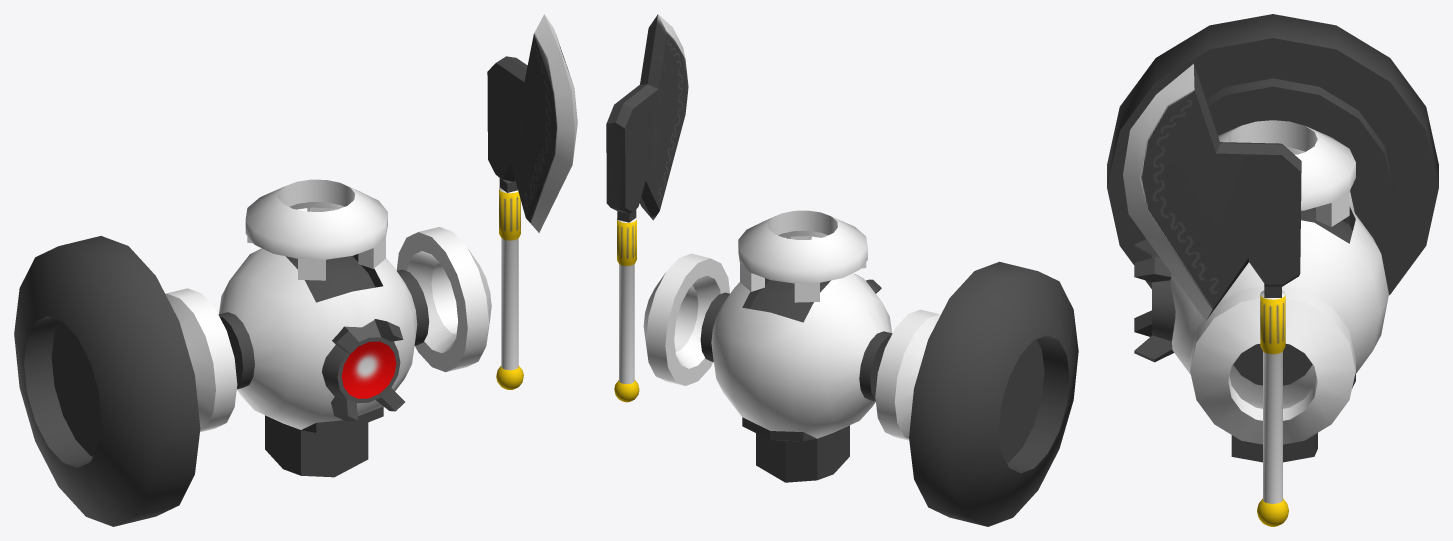
The model's file is O_004_middle_boss_01_04.fbx.
3 renders of one model, left to right at view 1: azimuth 30°, elevation 25°; view 2: azimuth 150°, elevation 25°; view 3: azimuth 270°, elevation 25°, orthographic. The views are drawn at different scales.
Visible parts, largest first — view 1: E01_sereph001, オブジェクト003, オブジェクト002, オブジェクト, オブジェクト001; view 2: E01_sereph001, オブジェクト003, オブジェクト002, オブジェクト, オブジェクト001; view 3: オブジェクト003, オブジェクト002, E01_sereph001, オブジェクト.
Part boxes in pixels (x1,y1,x2,y2): E01_sereph001: (218, 179, 429, 477); オブジェクト003: (14, 236, 200, 526); オブジェクト002: (487, 14, 577, 389); オブジェクト: (396, 227, 491, 372); オブジェクト001: (165, 288, 237, 431); E01_sereph001: (700, 210, 892, 482); オブジェクト003: (909, 261, 1078, 526); オブジェクト002: (606, 14, 688, 402); オブジェクト: (643, 253, 729, 385); オブジェクト001: (875, 309, 940, 440); オブジェクト003: (1107, 14, 1438, 295); オブジェクト002: (1123, 64, 1301, 526); E01_sereph001: (1134, 120, 1388, 462); オブジェクト: (1190, 286, 1355, 444).
Bounding box in the file's own units: 2613 × 2364 × 1415.
1 material, 1 textured.
